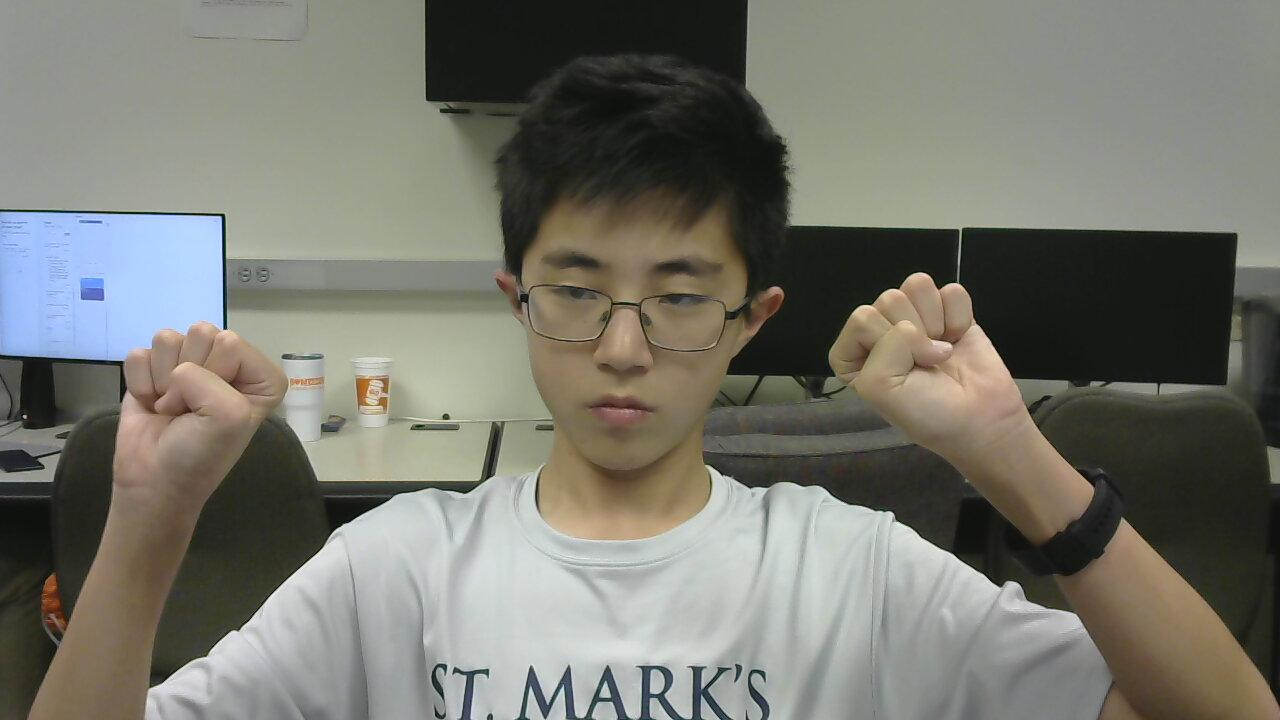fist: (111, 307, 306, 513), (818, 277, 1009, 451)
